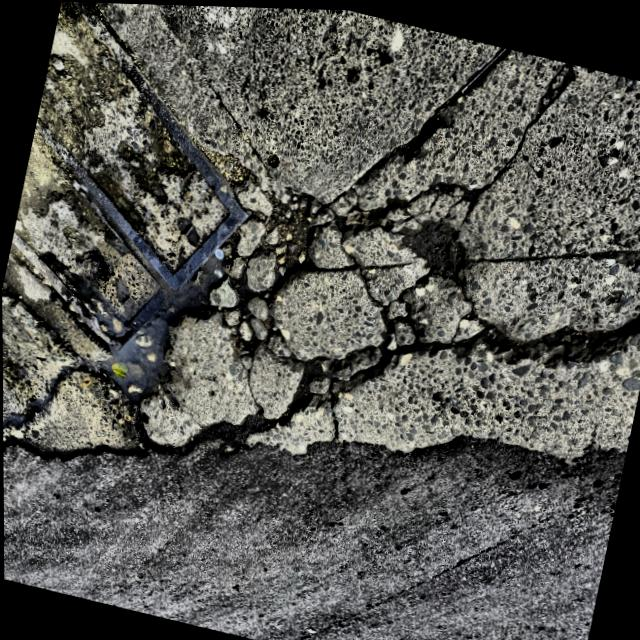pothole: (140, 184, 489, 448)
